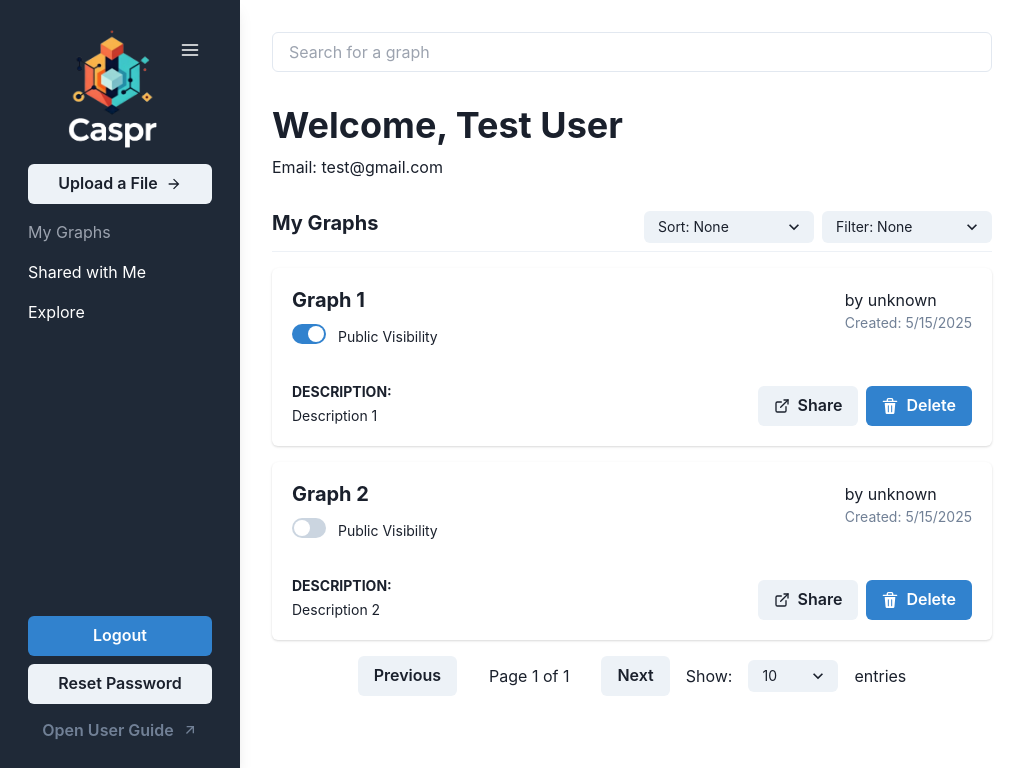
Home page Component › opens the share modal when the Share button is clicked
The width and height of the screenshot is (1024, 768).
What coordinates should you click on to do the following:
click the button "Share" in the row of "Description 1"
I would click on:
 (808, 406)
Its box is x1=758 y1=386 x2=858 y2=426.
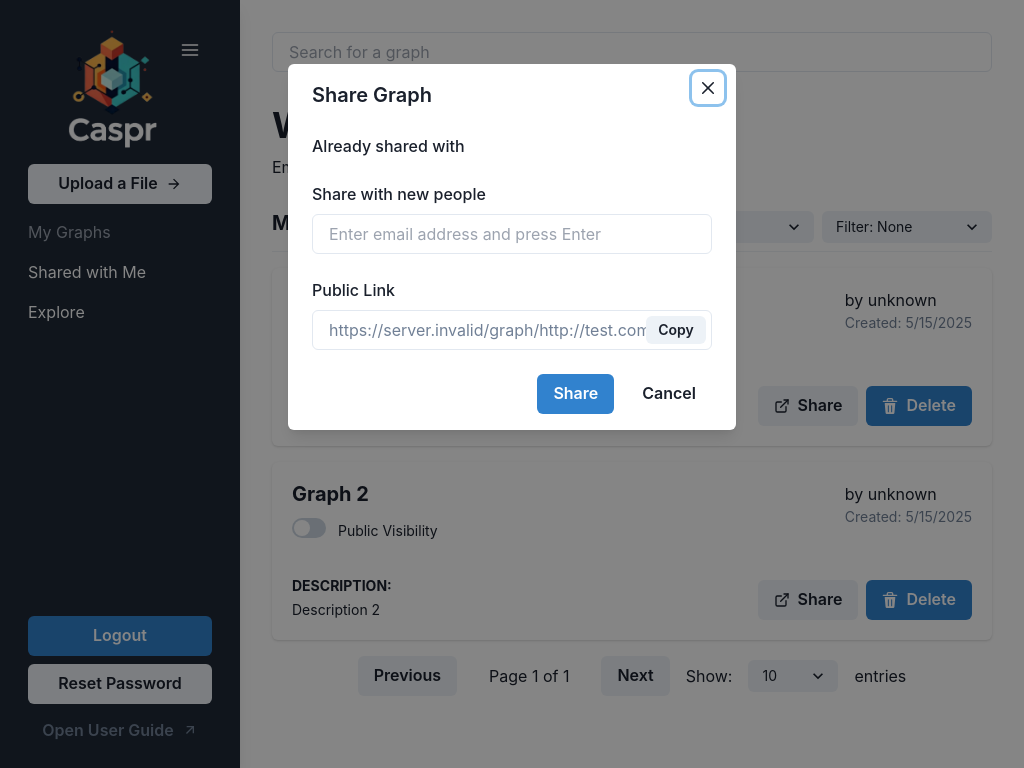
Expected: the text "Share Graph" is shown, x1=312 y1=83 x2=432 y2=107
Expected: the field with placeholder "Enter email address and press Enter" is shown, x1=312 y1=214 x2=712 y2=254
Expected: the text "Share with new people" is shown, x1=312 y1=184 x2=486 y2=204
